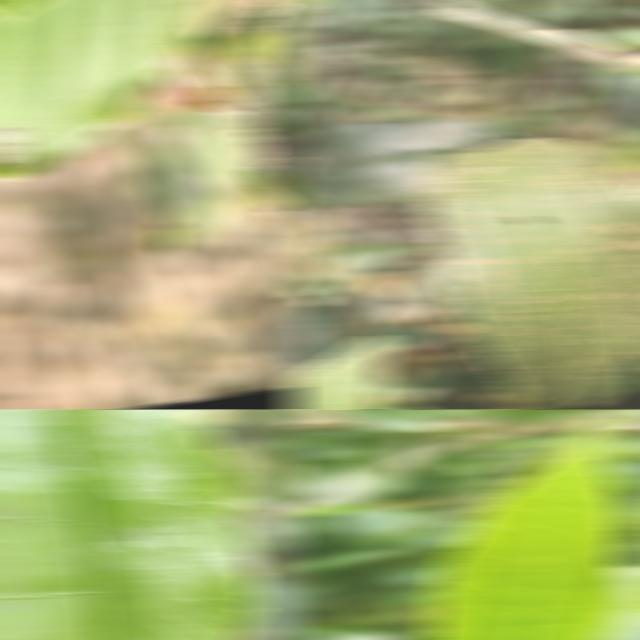Leaf: (0, 409, 261, 640), (420, 138, 640, 409), (425, 419, 631, 640), (0, 0, 215, 179), (294, 117, 502, 206), (144, 101, 261, 257), (229, 0, 302, 216), (413, 6, 529, 84), (286, 335, 393, 409), (199, 1, 260, 85), (609, 74, 640, 168), (340, 409, 449, 432), (459, 0, 519, 17)
